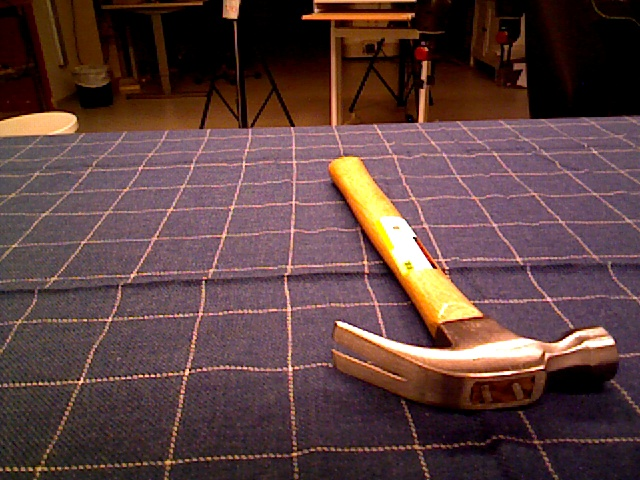hammer1: (328, 154, 620, 410)
